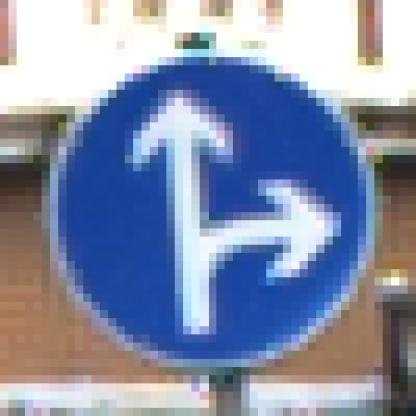Straight or Right: (43, 42, 376, 376)
